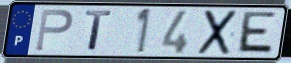1: (135, 7, 154, 56)
4: (160, 8, 190, 56)
E: (234, 9, 279, 56)
P: (33, 8, 75, 53)
T: (84, 9, 114, 53)
X: (195, 9, 239, 57)
